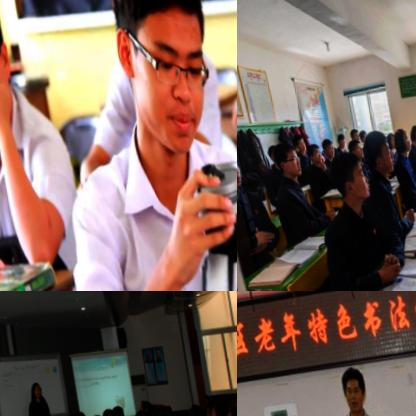head: (99, 0, 221, 155), (0, 0, 27, 146), (328, 145, 371, 202), (360, 127, 395, 175), (336, 362, 367, 416), (272, 139, 302, 182), (389, 124, 411, 152), (289, 126, 305, 155), (345, 137, 364, 160), (135, 391, 152, 416), (304, 140, 321, 162), (319, 134, 335, 157), (237, 141, 244, 192), (218, 399, 237, 416), (209, 399, 226, 416), (189, 399, 205, 416), (108, 398, 123, 416), (150, 405, 174, 416), (383, 128, 396, 148), (129, 405, 152, 416), (407, 118, 416, 146), (333, 128, 345, 147), (29, 380, 41, 398), (347, 126, 360, 142), (100, 404, 115, 416), (72, 405, 88, 416), (168, 407, 184, 416), (65, 408, 82, 416), (90, 408, 107, 416), (185, 408, 202, 416), (356, 127, 366, 140), (201, 390, 208, 405), (4, 410, 21, 416), (231, 389, 237, 405), (208, 391, 216, 403), (20, 411, 34, 416)
